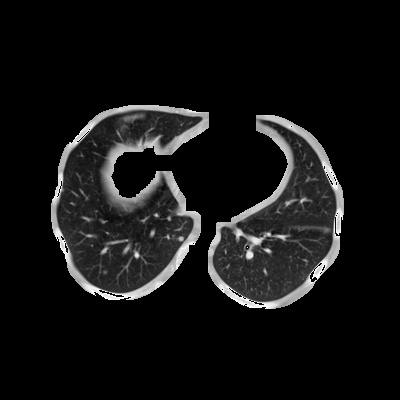PN: (178, 236, 184, 242)
